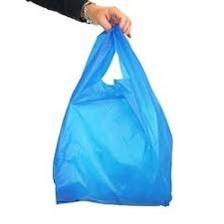plastic_bag: (45, 21, 181, 211)
